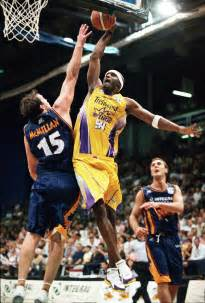basketball: (89, 7, 118, 33)
